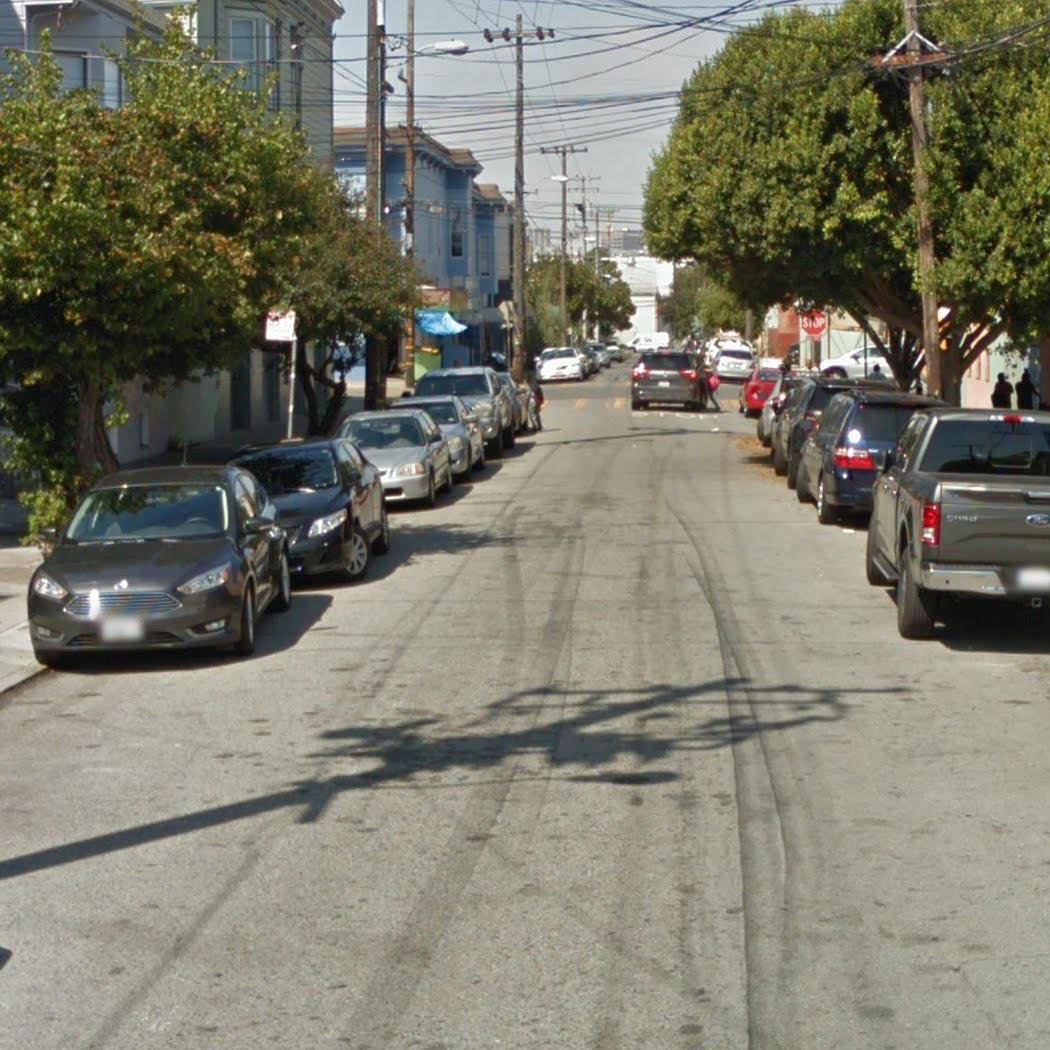No Parking: (264, 299, 298, 343)
